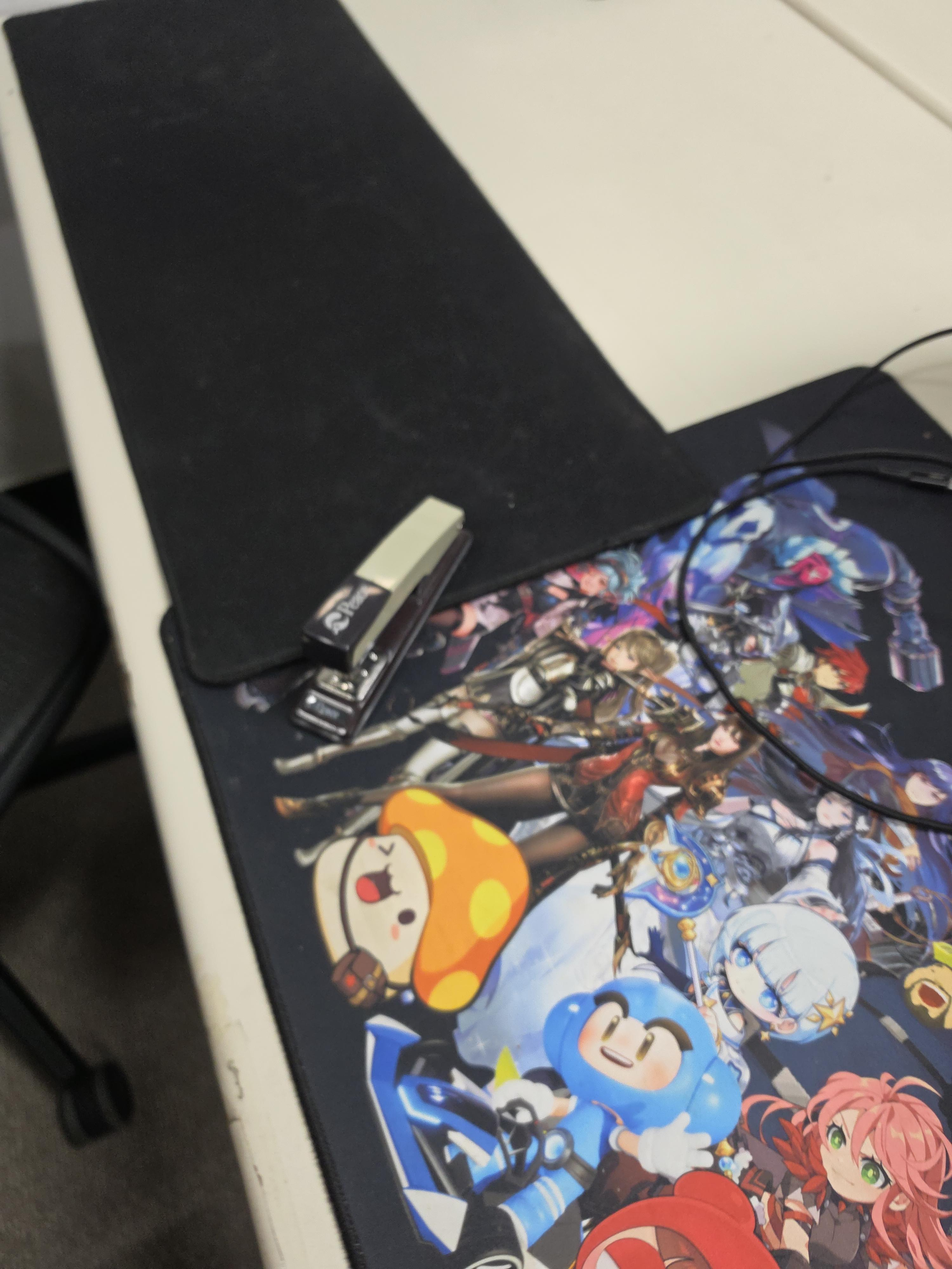stapler: (293, 495, 475, 747)
